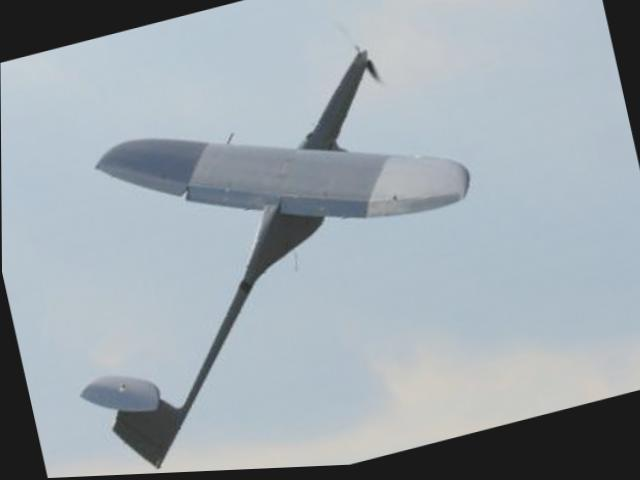uav: (18, 26, 518, 479)
